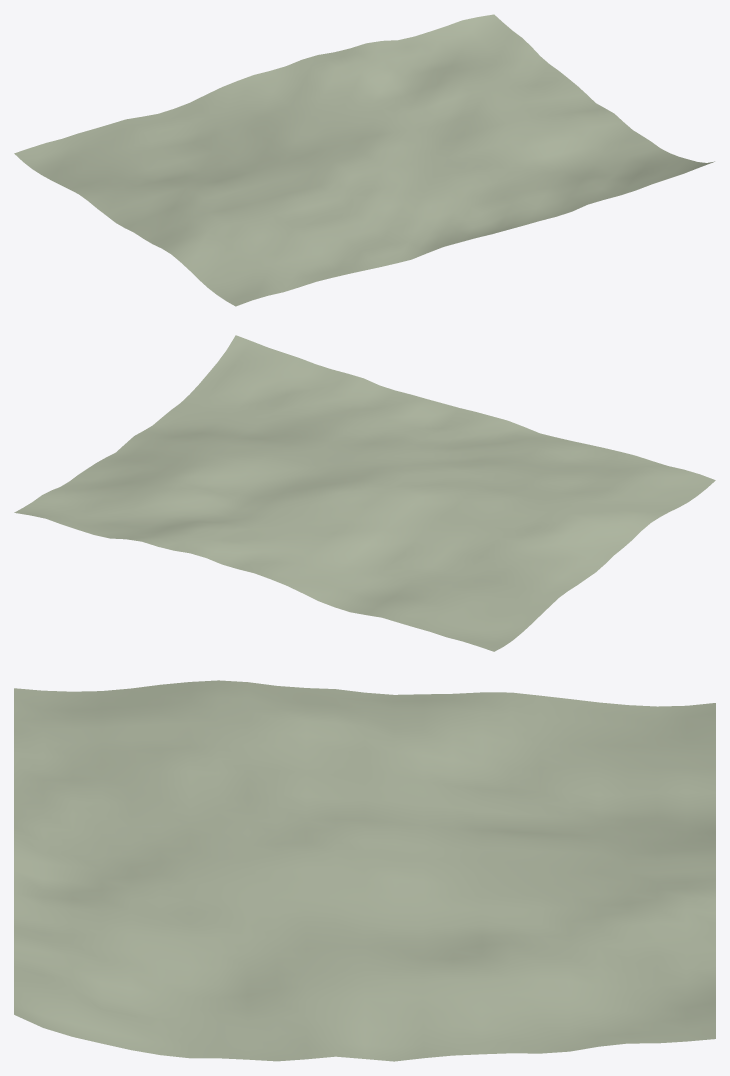
3 views of the same model, one above another, from view 1: azimuth 30°, elevation 25°; view 2: azimuth 150°, elevation 25°; view 3: azimuth 270°, elevation 25° (orthographic). The views are drawn at different scales.
Visible parts, largest first — view 1: world-ground/90-144; view 2: world-ground/90-144; view 3: world-ground/90-144.
Boxes of the visible parts, x1=… form: world-ground/90-144: x1=14, y1=14, x2=714, y2=306; world-ground/90-144: x1=14, y1=335, x2=715, y2=651; world-ground/90-144: x1=14, y1=680, x2=715, y2=1061.
Size of the model in its own units: 37.5 by 2.95 by 30.
